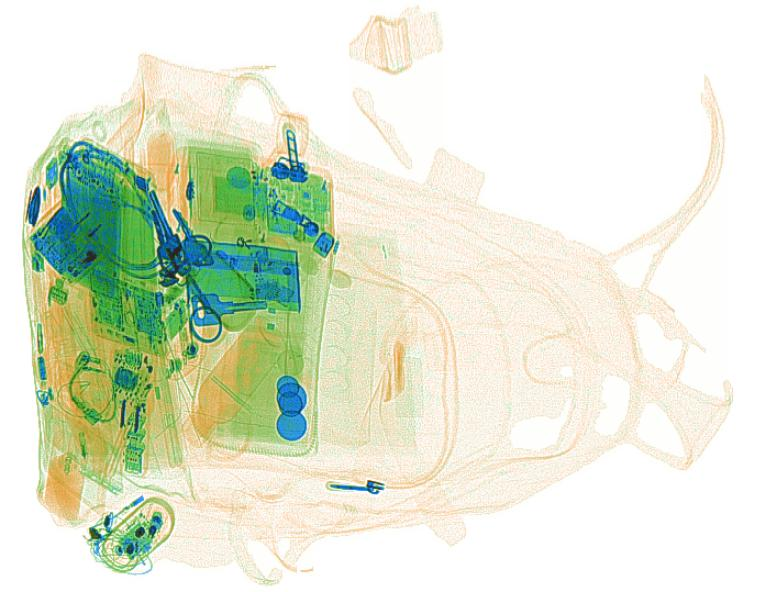plasticBottleWithaNozzle: (42, 432, 87, 523)
